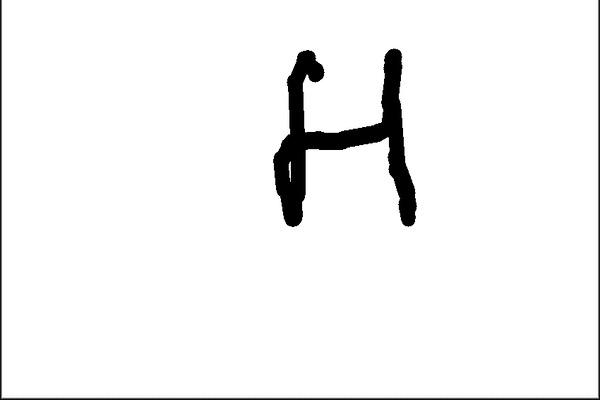H: (267, 39, 423, 242)
